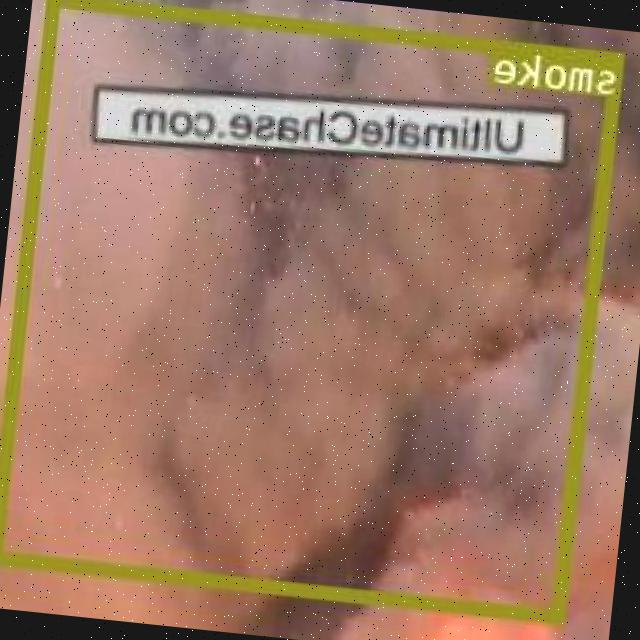smoke: (0, 0, 627, 621)
